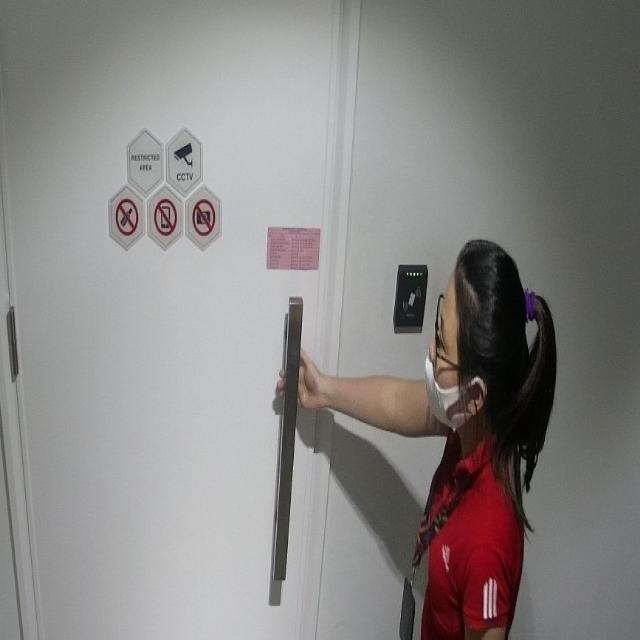hairnet: (423, 326, 475, 442)
